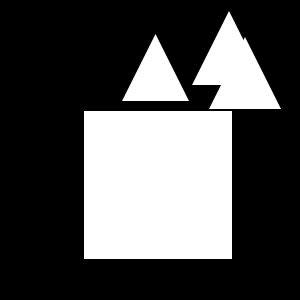circle: (84, 111, 232, 259)
triangle: (192, 11, 266, 85), (209, 37, 281, 109), (122, 34, 189, 101)
